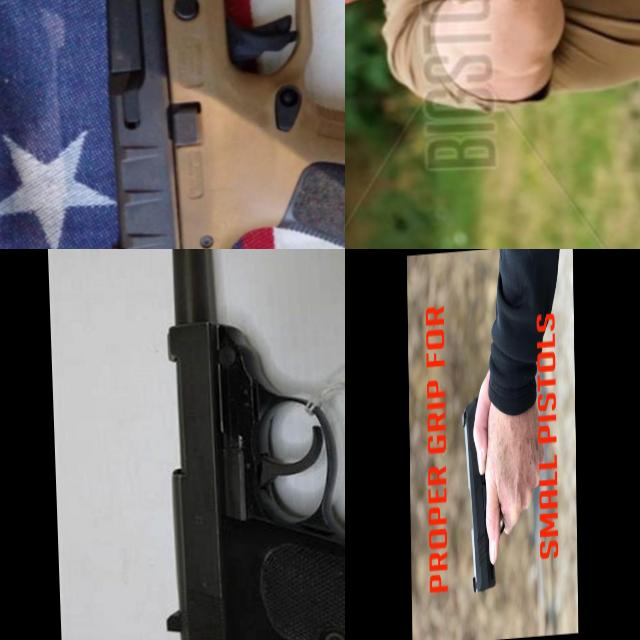handgun: (146, 249, 345, 640), (74, 0, 345, 249), (461, 385, 512, 596), (377, 0, 498, 27)
